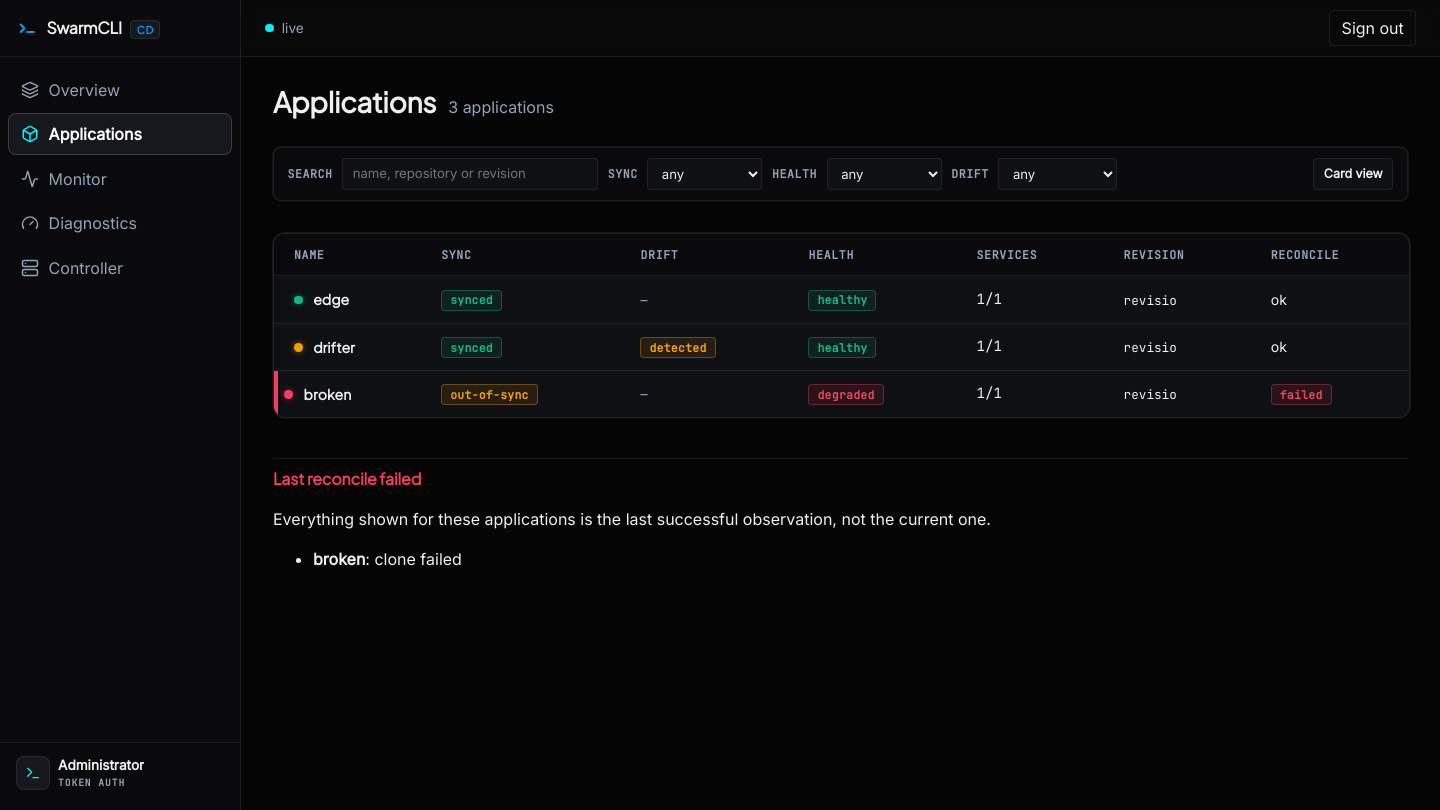
the fleet overview › flags attention and surfaces the drift and reconcile-error counts
The width and height of the screenshot is (1440, 810).
Check: the text "3 applications" is shown, box [448,95,554,119]
Click the link "Overview" at (71, 90), box [21,80,120,100]
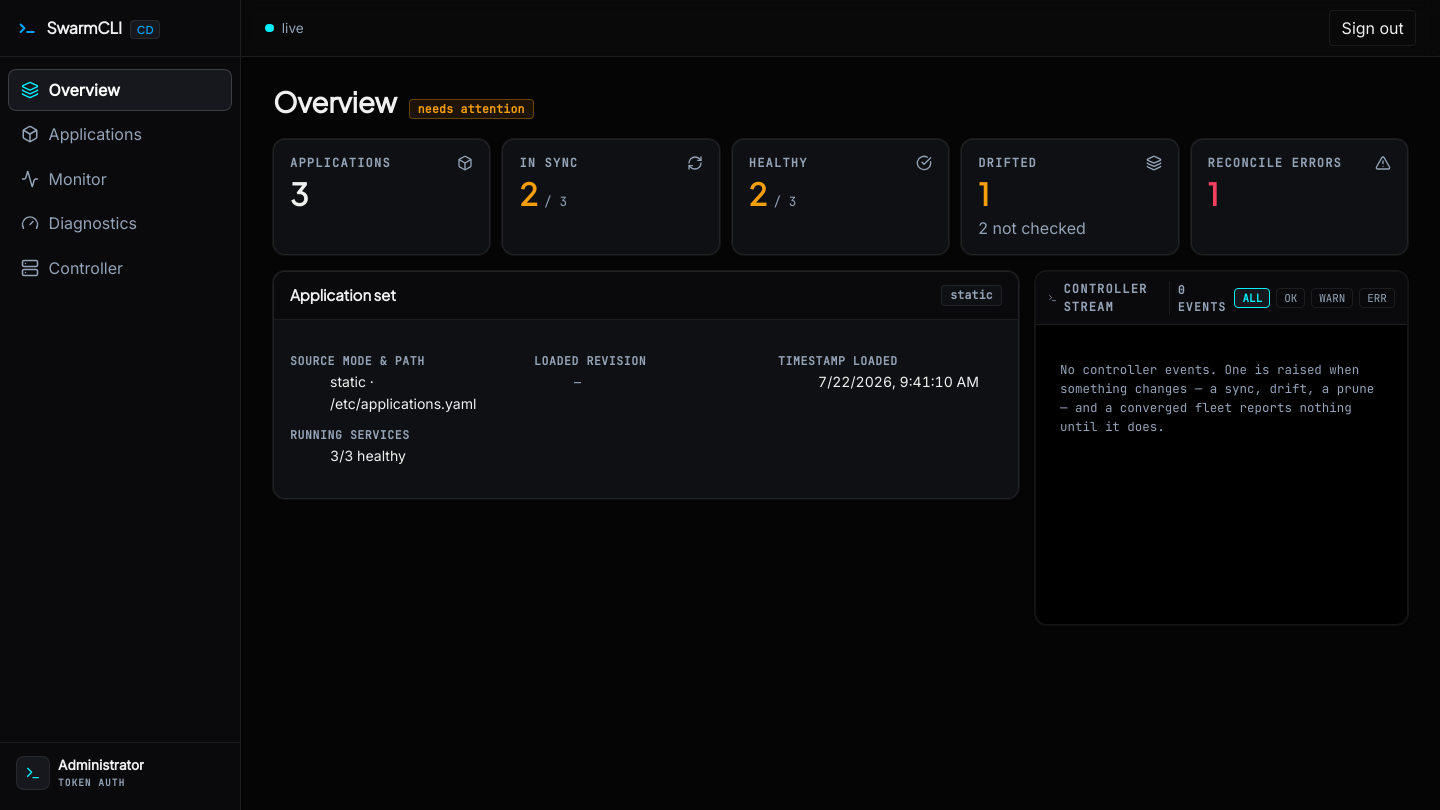
Check: the heading "Overview" is shown, box [273,81,397,123]
Check: the text "needs attention" is shown, box [409,99,534,119]
